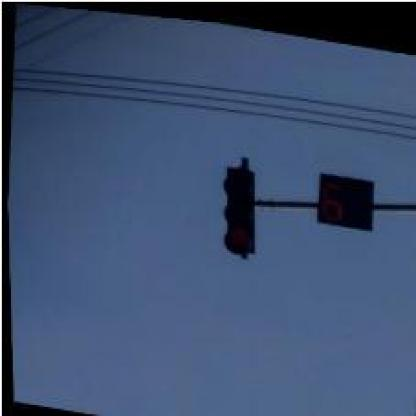red: (218, 160, 258, 251)
